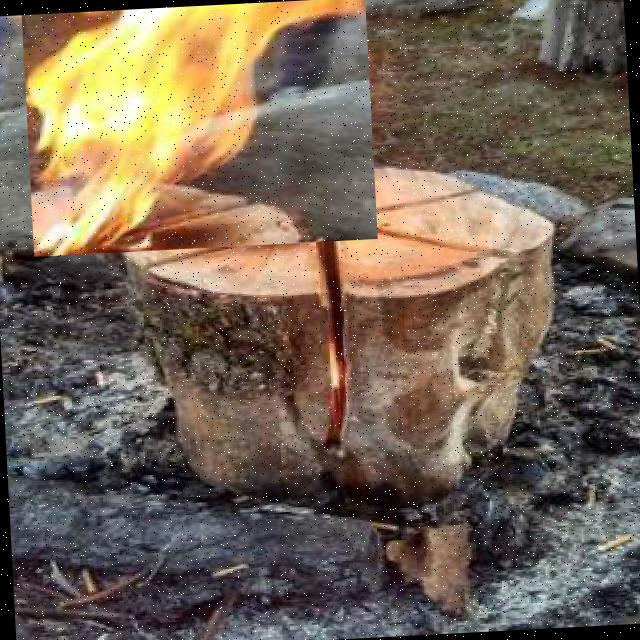fire: (21, 0, 377, 257)
